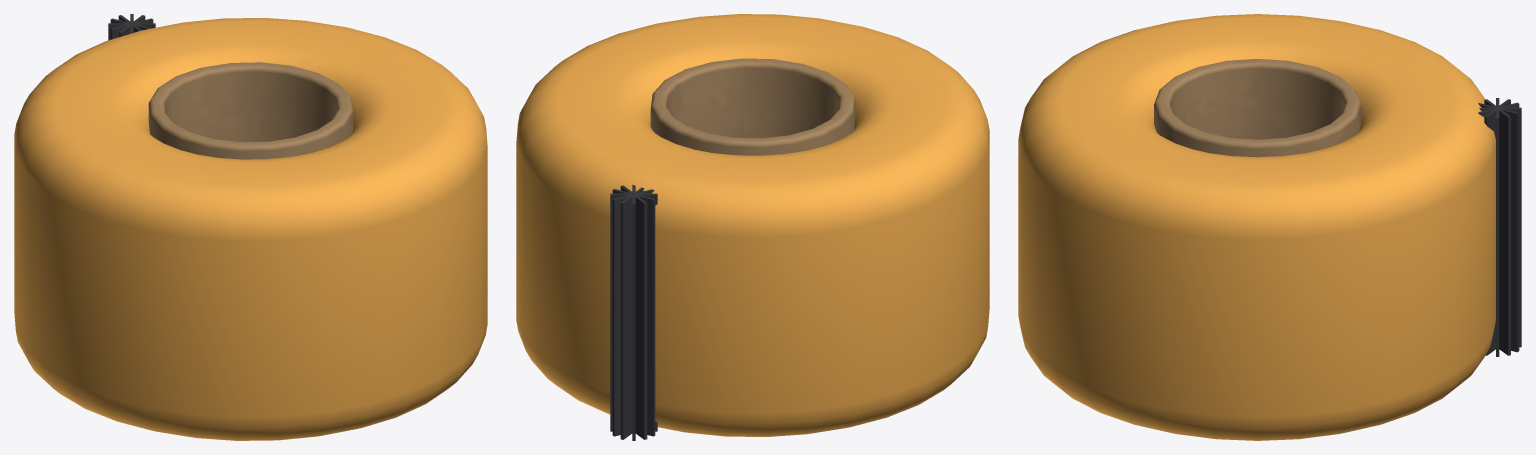
The model's file is SER-EPC-005.glb.
3 views of the same model, side by side, from view 1: azimuth 30°, elevation 25°; view 2: azimuth 150°, elevation 25°; view 3: azimuth 270°, elevation 25° (orthographic).
Visible parts, largest first — view 1: SER-EPC-005_rolo, SER-EPC-005_tubete; view 2: SER-EPC-005_rolo, SER-EPC-005_tubete, SER-EPC-005_listra5, SER-EPC-005_listra9, SER-EPC-005_listra6, SER-EPC-005_listra8, SER-EPC-005_listra4, SER-EPC-005_listra3, SER-EPC-005_listra7, SER-EPC-005_listra2; view 3: SER-EPC-005_rolo, SER-EPC-005_tubete, SER-EPC-005_listra1, SER-EPC-005_listra2, SER-EPC-005_listra0, SER-EPC-005_listra3.
Part boxes in pixels (x1,y1,x2,y2): SER-EPC-005_rolo: [14, 18, 487, 440]; SER-EPC-005_tubete: [148, 62, 353, 159]; SER-EPC-005_rolo: [516, 14, 989, 436]; SER-EPC-005_tubete: [650, 58, 855, 155]; SER-EPC-005_listra5: [620, 185, 647, 439]; SER-EPC-005_listra9: [621, 187, 644, 439]; SER-EPC-005_listra6: [612, 190, 655, 436]; SER-EPC-005_listra8: [613, 189, 654, 436]; SER-EPC-005_listra4: [632, 184, 635, 440]; SER-EPC-005_listra3: [620, 188, 643, 439]; SER-EPC-005_listra7: [610, 193, 657, 431]; SER-EPC-005_listra2: [612, 189, 650, 436]; SER-EPC-005_rolo: [1018, 14, 1495, 440]; SER-EPC-005_tubete: [1154, 59, 1361, 157]; SER-EPC-005_listra1: [1484, 99, 1510, 355]; SER-EPC-005_listra2: [1479, 104, 1519, 352]; SER-EPC-005_listra0: [1496, 98, 1499, 356]; SER-EPC-005_listra3: [1479, 107, 1521, 347].
Size of the model in its own units: 0.12 by 0.07 by 0.1262.
3 materials, 1 textured.
